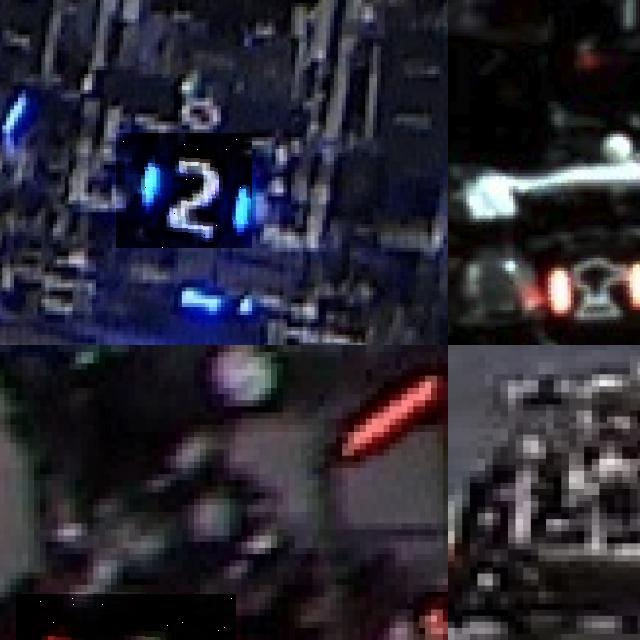B2: (116, 133, 252, 248)
R1: (16, 593, 235, 640), (339, 578, 448, 640)
Rs: (548, 251, 640, 316)
